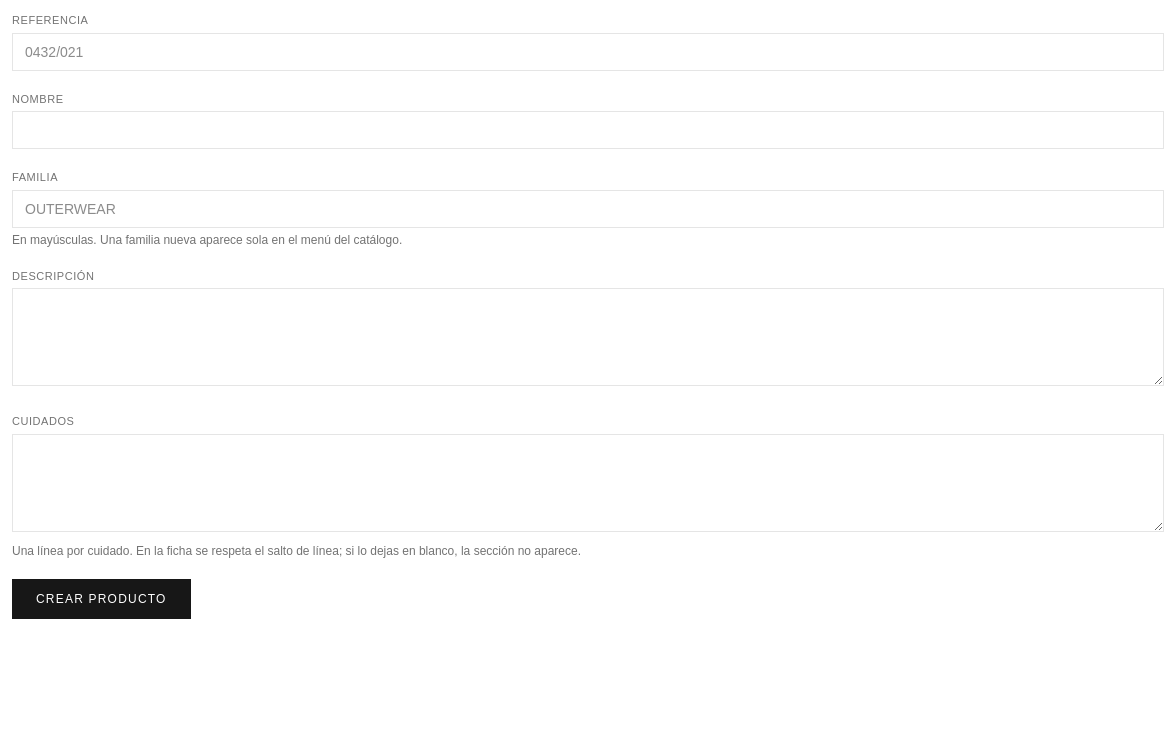
AdminProductForm › rechaza una referencia mal formada y una familia en minúsculas
This screenshot has width=1176, height=732.
In the field labelled "Referencia": (588, 52) [12,32,1164,70], type "ABC"
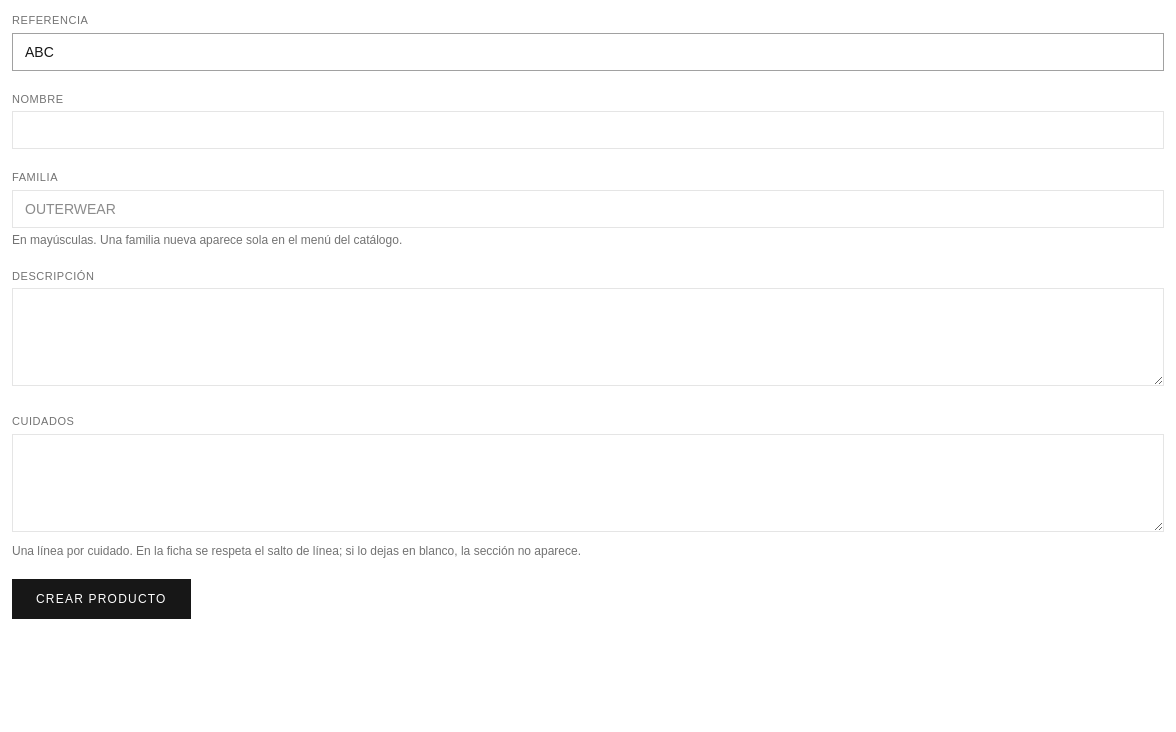
In the field labelled "Nombre": (588, 130) [12,111,1164,149], type "Blazer"
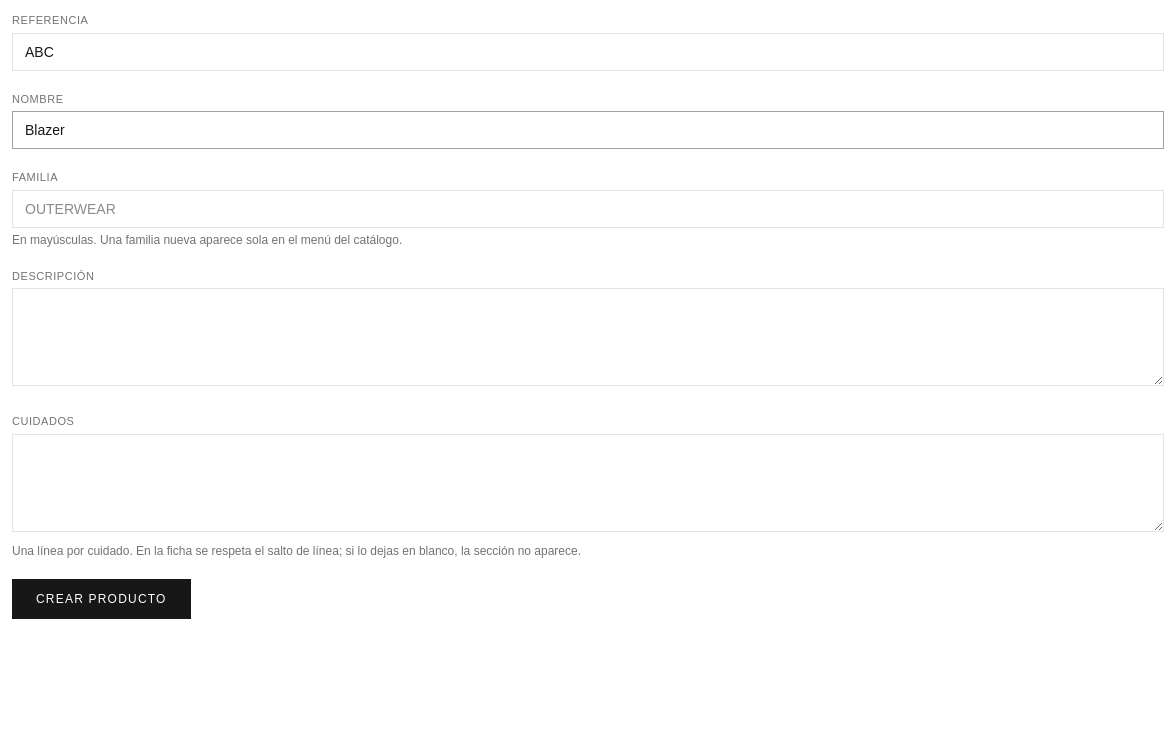
In the field labelled "Familia": (588, 208) [12,190,1164,228], type "outerwear"
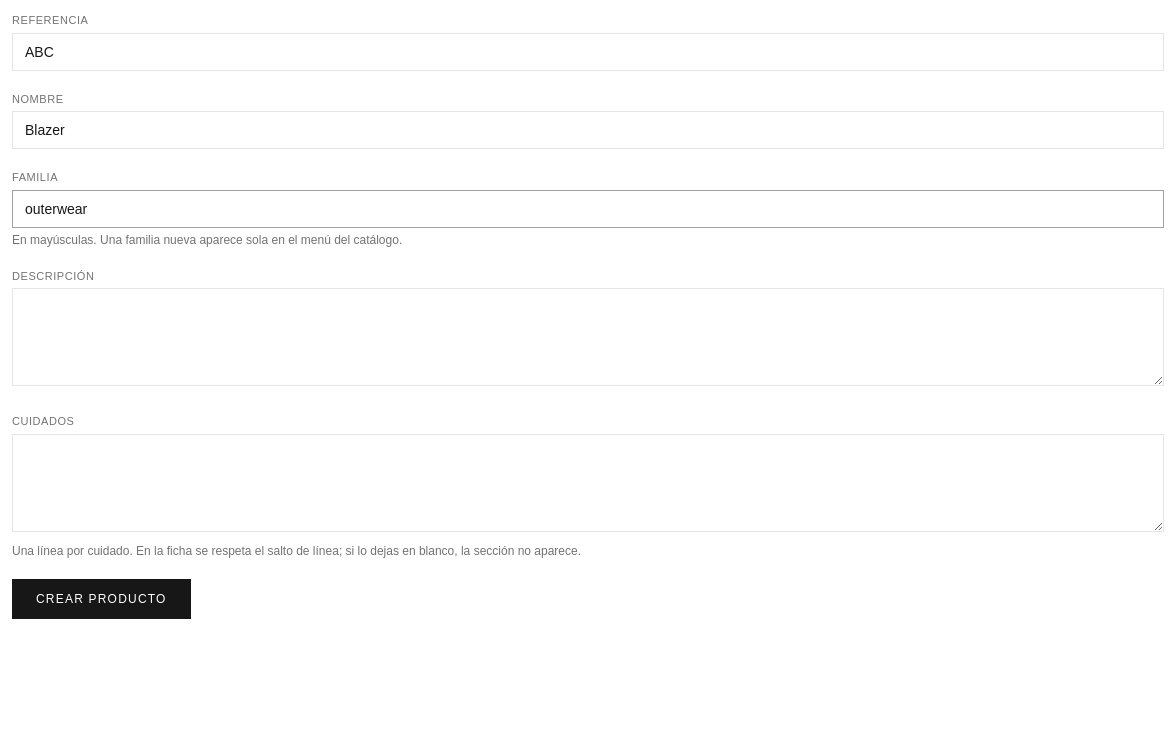
Click the button "Crear producto": (101, 598) [12,578,191,618]
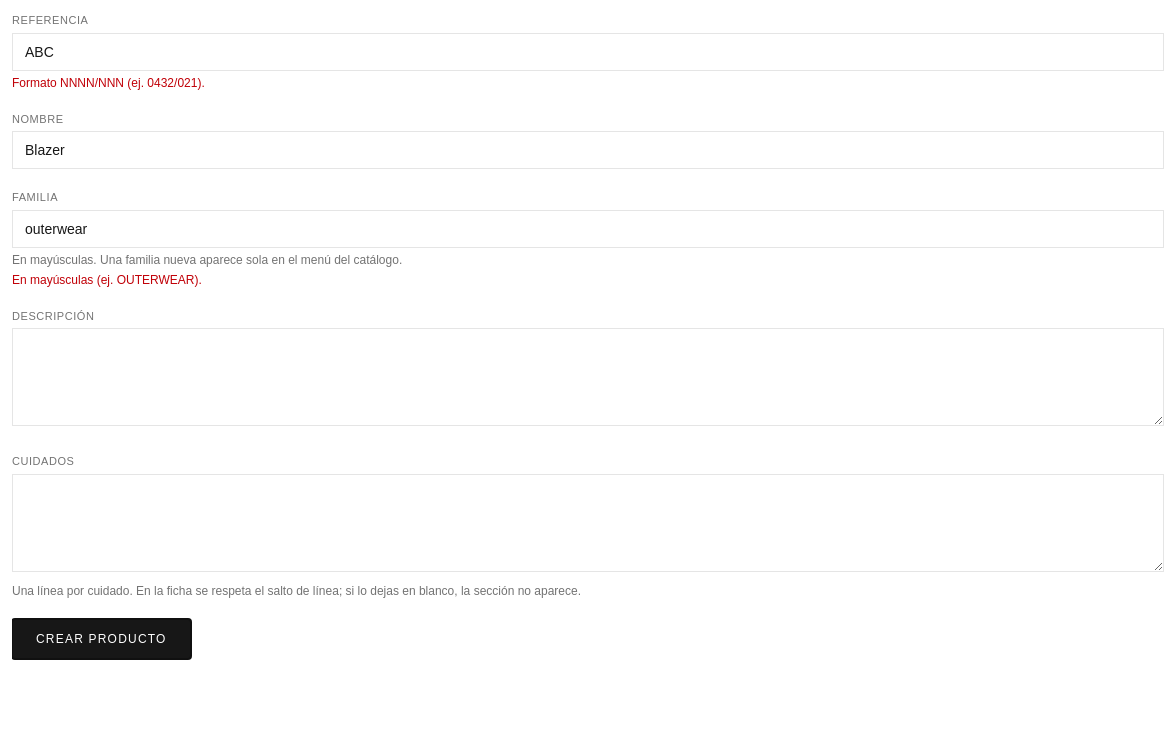
Now the text "Formato NNNN/NNN (ej. 0432/021)." is shown, box [12,76,205,90]
Now the text "En mayúsculas (ej. OUTERWEAR)." is shown, box [12,272,202,286]
